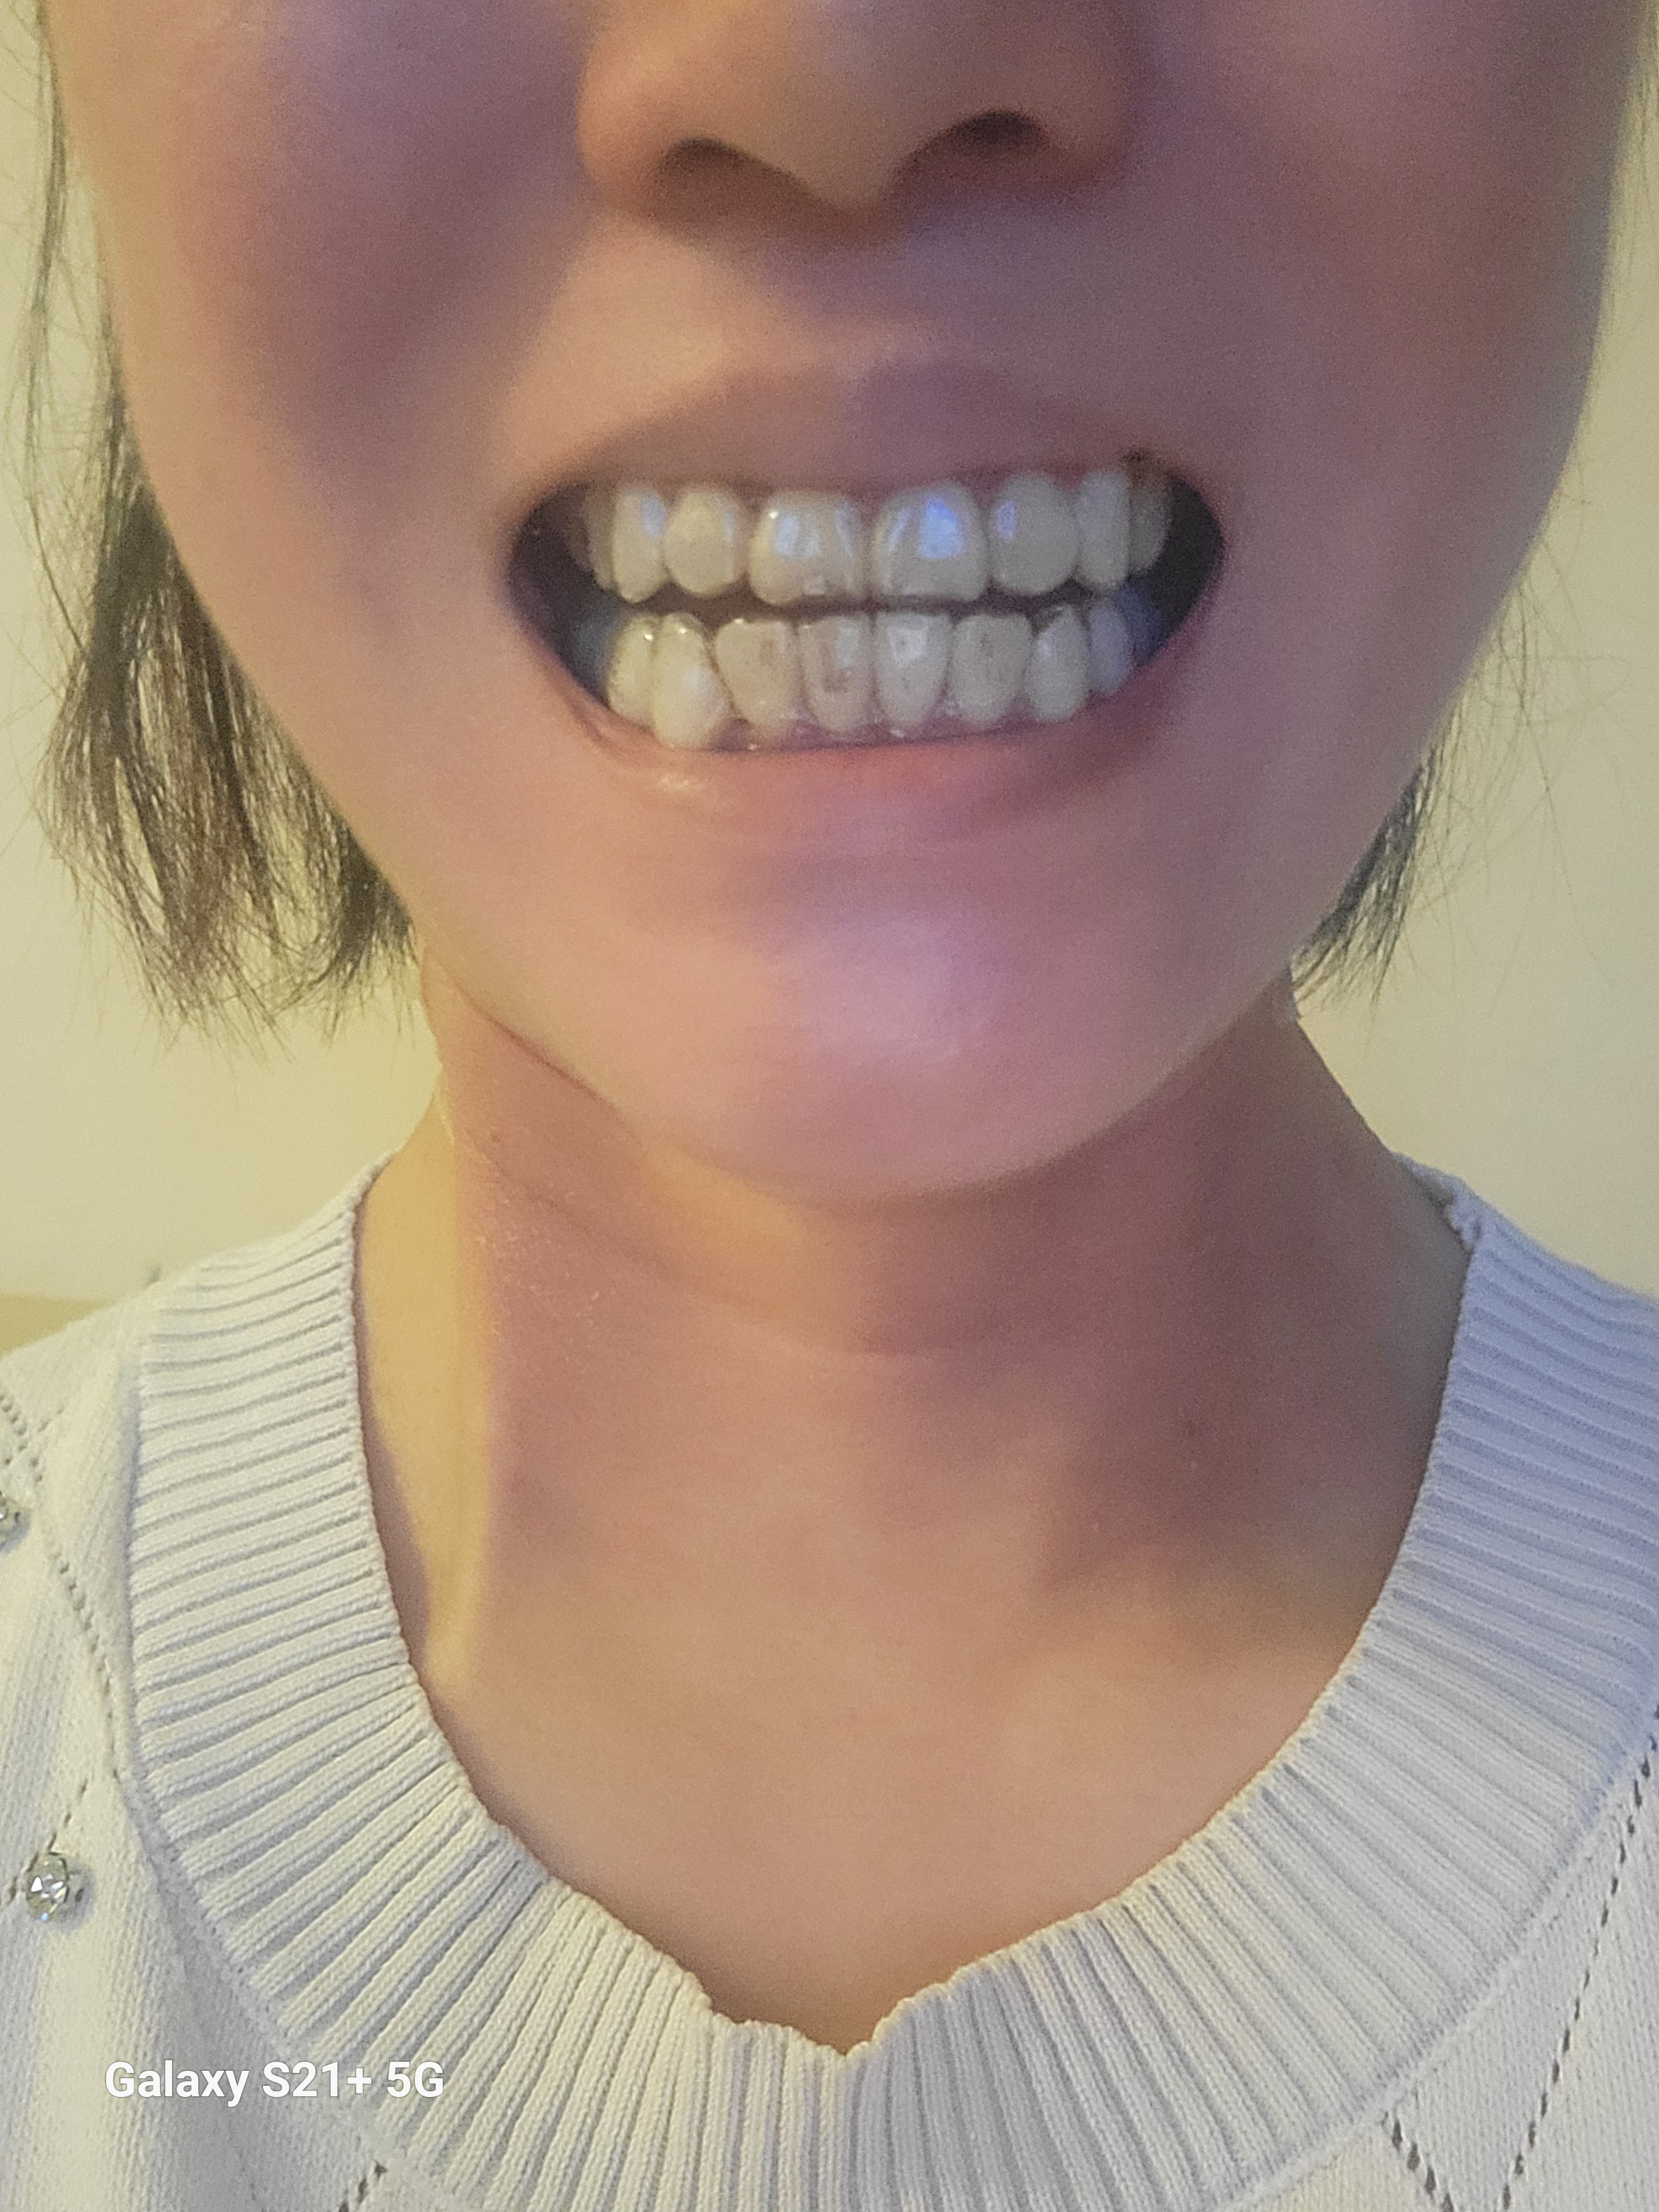teeth: (755, 479, 857, 594), (871, 482, 978, 589), (655, 618, 725, 738), (866, 622, 950, 718), (990, 474, 1060, 585), (1080, 469, 1138, 582), (673, 498, 746, 585), (805, 622, 866, 725), (960, 634, 1026, 725), (727, 627, 784, 730), (1030, 634, 1093, 705), (615, 491, 659, 594), (615, 627, 636, 712)
